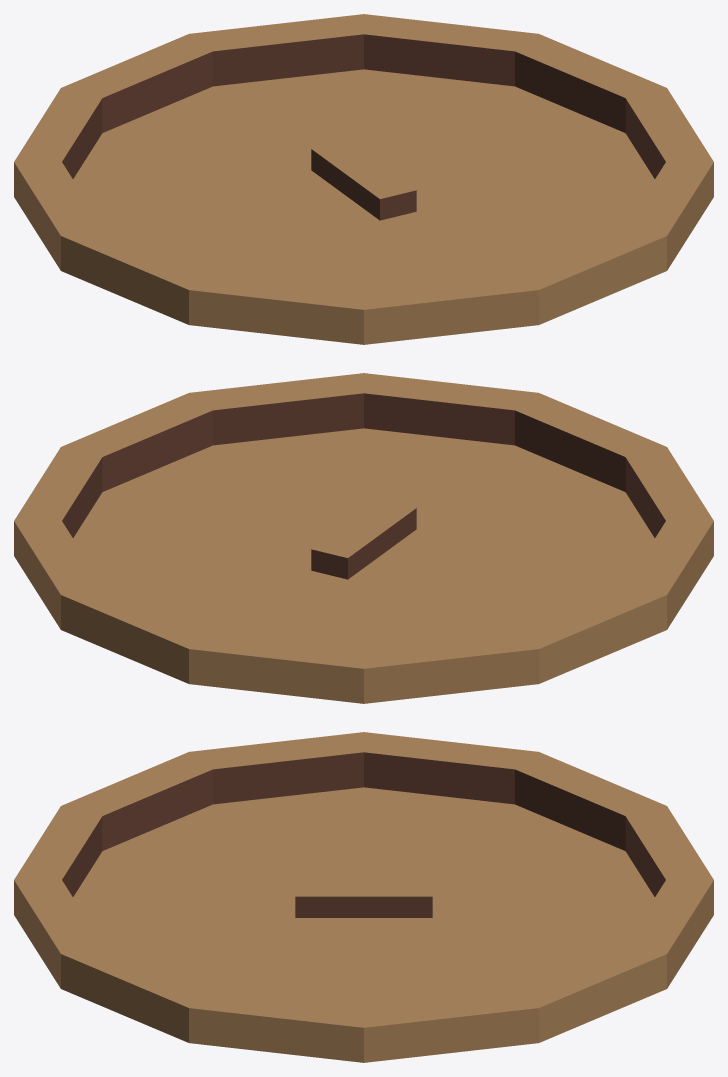
The model's file is barrel_top.glb.
The picture shows the model from 3 angles, top to bottom: view 1: azimuth 30°, elevation 25°; view 2: azimuth 150°, elevation 25°; view 3: azimuth 270°, elevation 25°; orthographic projection.
Visible parts, largest first — view 1: barrel_top; view 2: barrel_top; view 3: barrel_top.
Boxes of the visible parts, box(x1,y1,x2,y2) form: barrel_top: box(14, 14, 713, 344); barrel_top: box(14, 373, 713, 703); barrel_top: box(14, 732, 713, 1062).
Size of the model in its own units: 3.05 by 0.1683 by 3.05.
Materials: 1 (1 with a texture image).
